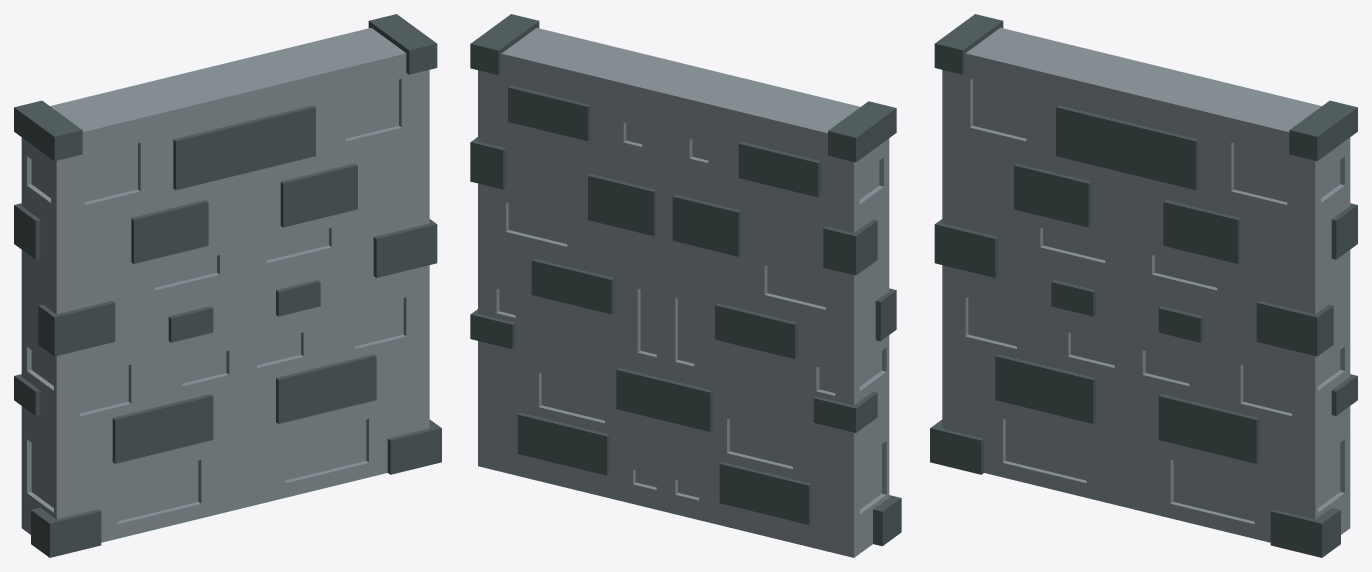
Rendered from wall enigme 1.obj.
3 renders of one model, left to right at view 1: azimuth 30°, elevation 25°; view 2: azimuth 150°, elevation 25°; view 3: azimuth 330°, elevation 25°, orthographic.
Size of the model in its own units: 8.4 by 8.6 by 1.5.
Materials: 1 (1 with a texture image).
